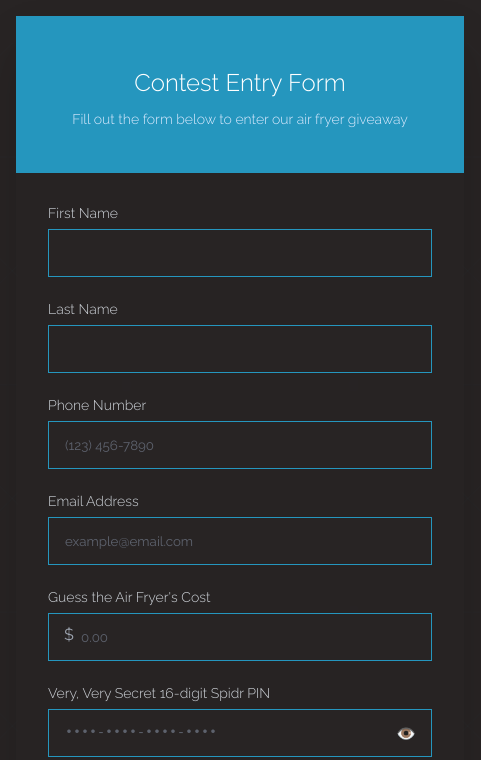
Test: SpidrForm Component › Air Fryer Cost Validation › allows only numbers and decimal point
Type "abc123.45def" into the field labelled "Guess the Air Fryer's Cost".
click(240, 637); type("abc123.45def")  # box [48,613,432,661]
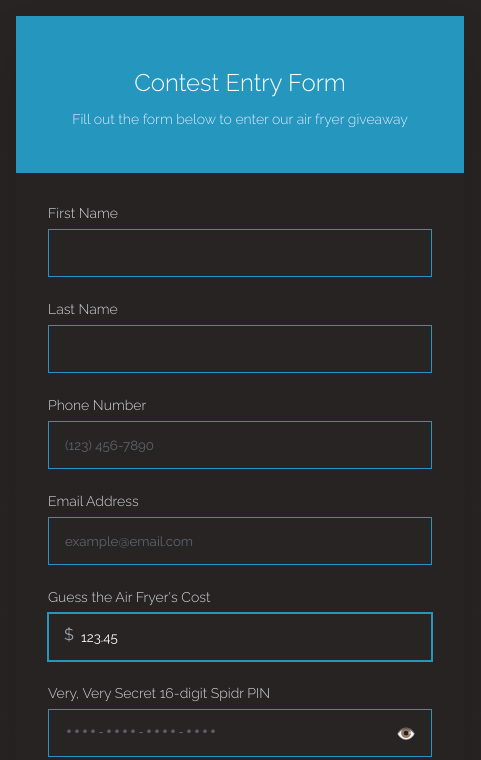
Now the field labelled "Guess the Air Fryer's Cost" holds "123.45", box [48,613,432,661]
